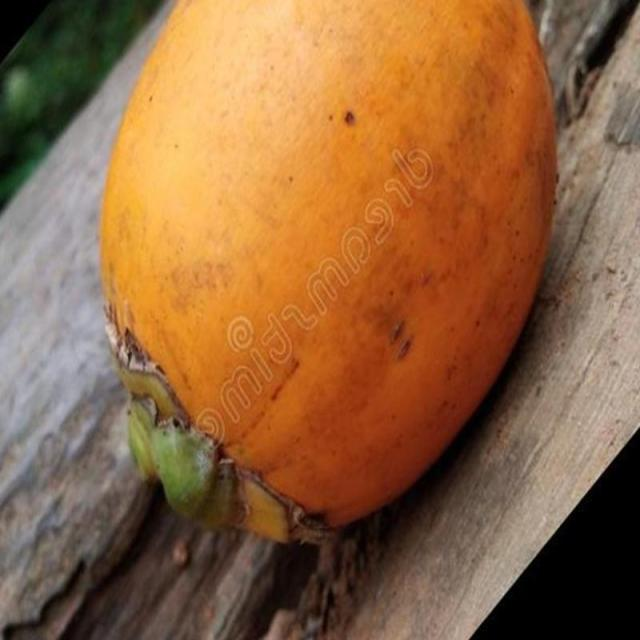good: (97, 0, 560, 548)
